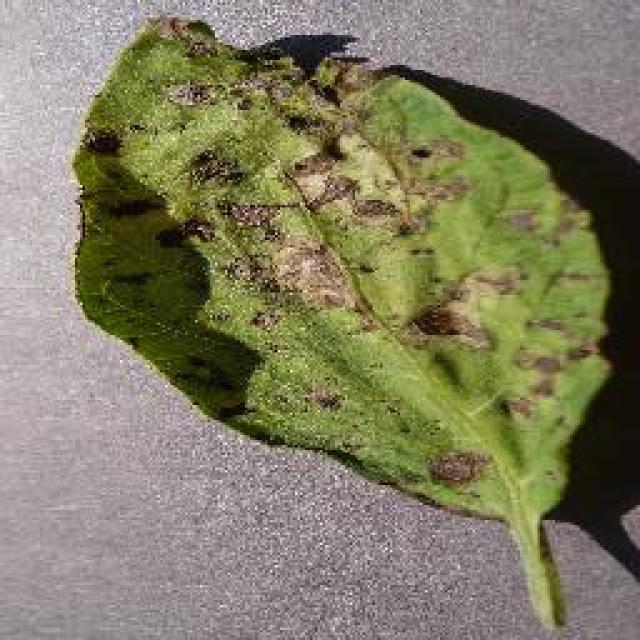early_blight: (68, 10, 620, 632)
